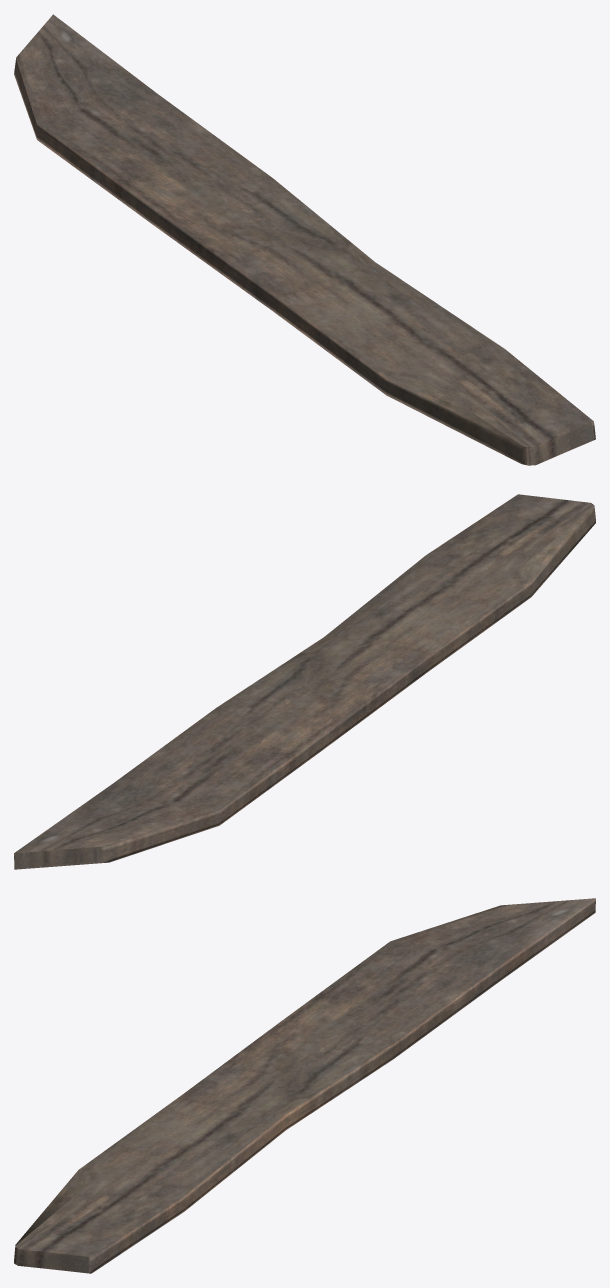
Rendered from table2.fbx.
3 views of the same model, one above another, from view 1: azimuth 30°, elevation 25°; view 2: azimuth 150°, elevation 25°; view 3: azimuth 330°, elevation 25° (orthographic). The views are drawn at different scales.
Parts seen in each view (by area): view 1: table2; view 2: table2; view 3: table2.
Boxes of the visible parts, bbox=[...] form: table2: bbox=[14, 14, 595, 465]; table2: bbox=[14, 494, 595, 869]; table2: bbox=[14, 898, 595, 1273].
Size of the model in its own units: 56.06 by 7.8 by 446.
